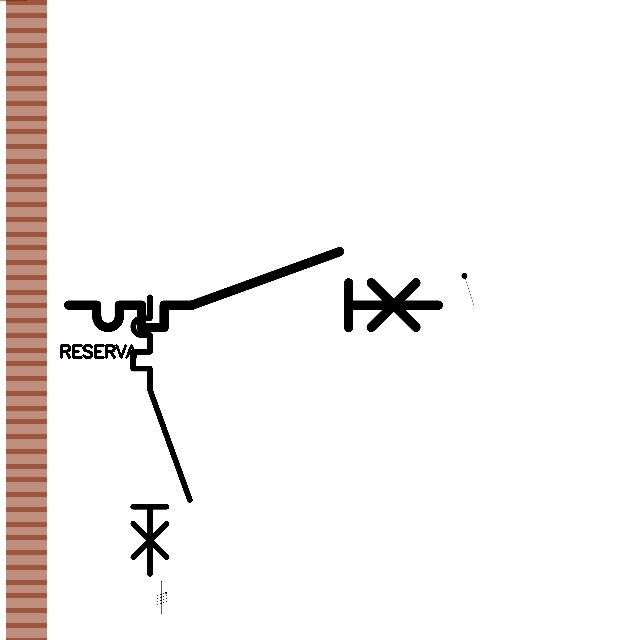interruptor_termomagnetico: (59, 242, 448, 337), (126, 290, 197, 581)
